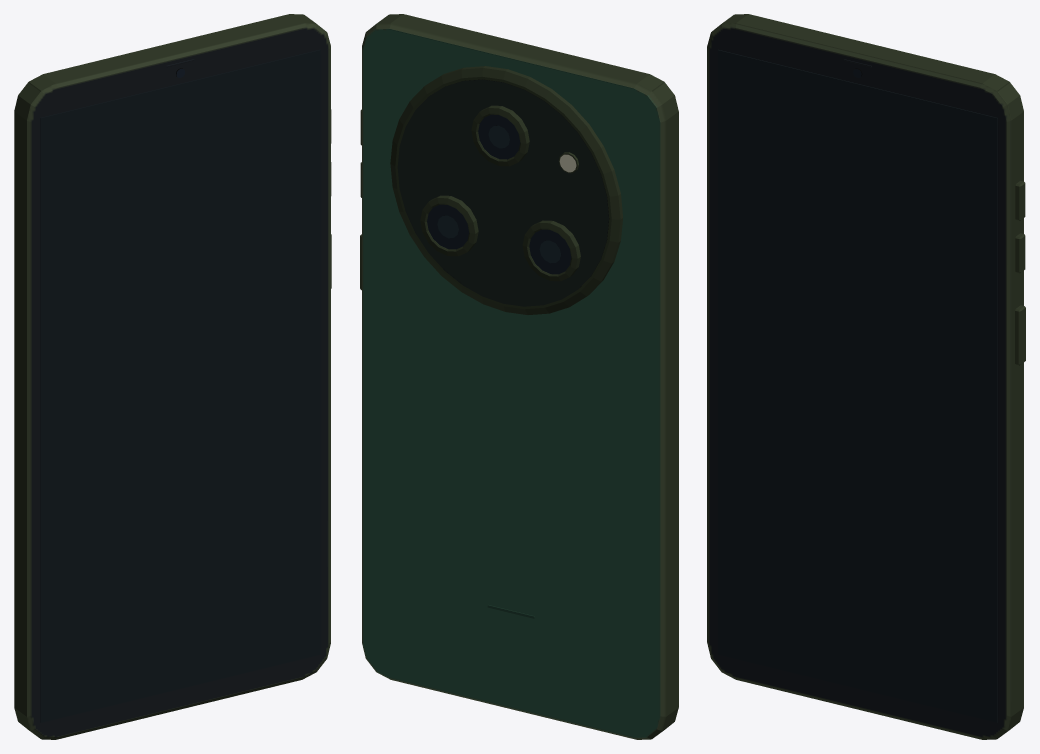
3 views of the same model, side by side, from view 1: azimuth 30°, elevation 25°; view 2: azimuth 150°, elevation 25°; view 3: azimuth 330°, elevation 25° (orthographic).
Parts seen in each view (by area): view 1: phone_screen, Phone_Body; view 2: Phone_Body, Camera_Plate, Camera_Bump, Camera_Rings, Camera_Lens_02, Camera_Lens_03, Camera_Lens_01; view 3: phone_screen, Phone_Body, Volume_Buttons, Power_Button.
Part boxes in pixels (x1,y1,x2,y2): phone_screen: (40, 49, 320, 722); Phone_Body: (14, 14, 330, 739); Phone_Body: (362, 14, 678, 739); Camera_Plate: (397, 79, 609, 306); Camera_Bump: (390, 66, 622, 314); Camera_Rings: (420, 105, 580, 281); Camera_Lens_02: (529, 229, 571, 274); Camera_Lens_03: (427, 204, 468, 249); Camera_Lens_01: (478, 114, 520, 159); phone_screen: (717, 49, 997, 722); Phone_Body: (707, 14, 1023, 739); Volume_Buttons: (1015, 180, 1025, 273); Power_Button: (1015, 305, 1025, 365).
Bounding box in the file's own units: 0.986 × 2 × 0.166.
11 materials, 10 textured.
